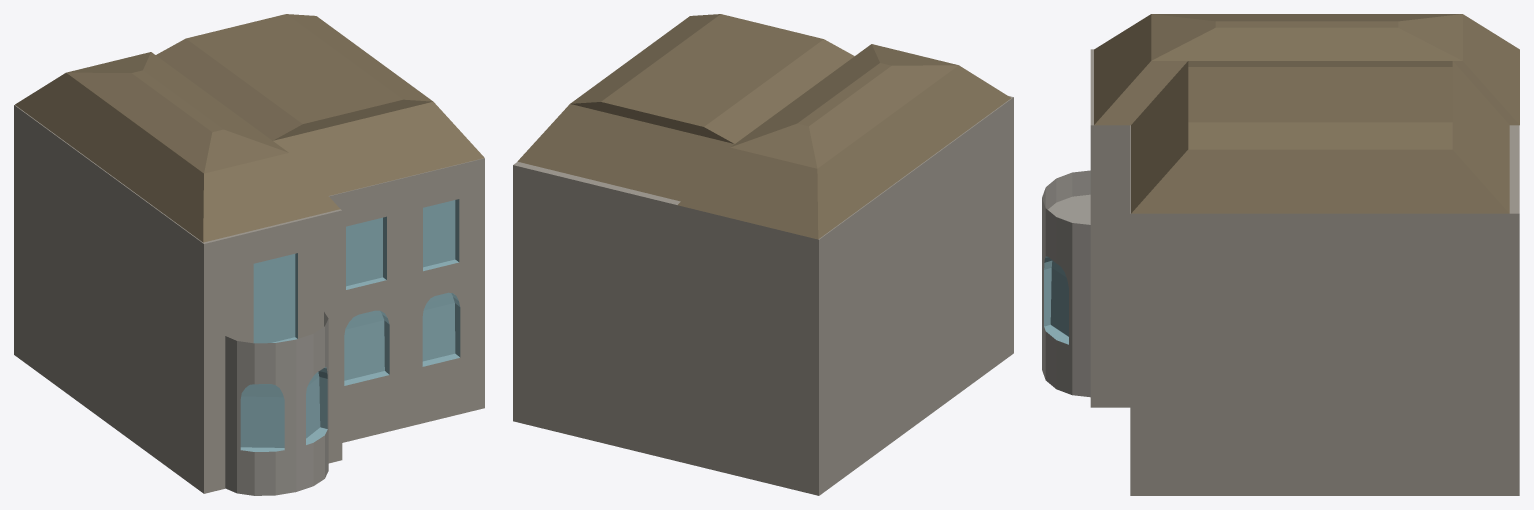
File: building.11.glb
3 views of the same model, side by side, from view 1: azimuth 30°, elevation 25°; view 2: azimuth 150°, elevation 25°; view 3: azimuth 270°, elevation 25° (orthographic). The views are drawn at different scales.
Parts seen in each view (by area): view 1: building; view 2: building; view 3: building.
Part boxes in pixels (box(x1,y1,x2,y2)): building: box(14, 14, 484, 495); building: box(513, 14, 1013, 495); building: box(1042, 14, 1519, 495).
Bounding box in the file's own units: 10.01 × 9.78 × 12.28.
Materials: 1 (1 with a texture image).
